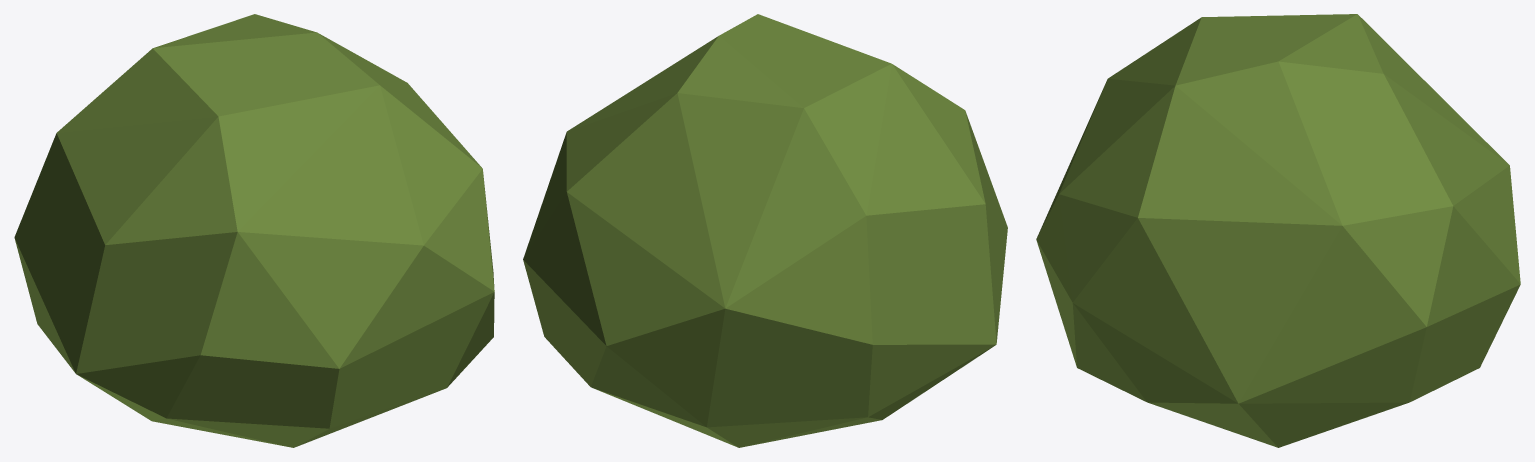
The model's file is wild_pz_bush_05.glb.
3 views of the same model, side by side, from view 1: azimuth 30°, elevation 25°; view 2: azimuth 150°, elevation 25°; view 3: azimuth 270°, elevation 25° (orthographic).
Visible parts, largest first — view 1: pg_bushl_05; view 2: pg_bushl_05; view 3: pg_bushl_05.
Part boxes in pixels (bbox=[...]): pg_bushl_05: bbox=[14, 14, 494, 447]; pg_bushl_05: bbox=[523, 14, 1007, 447]; pg_bushl_05: bbox=[1036, 14, 1520, 447].
Bounding box in the file's own units: 1.29 × 1.07 × 1.29.
